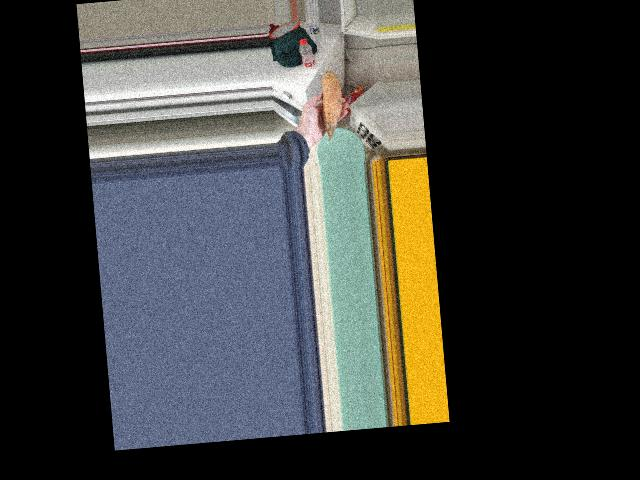sweet_potato: (317, 69, 344, 138)
